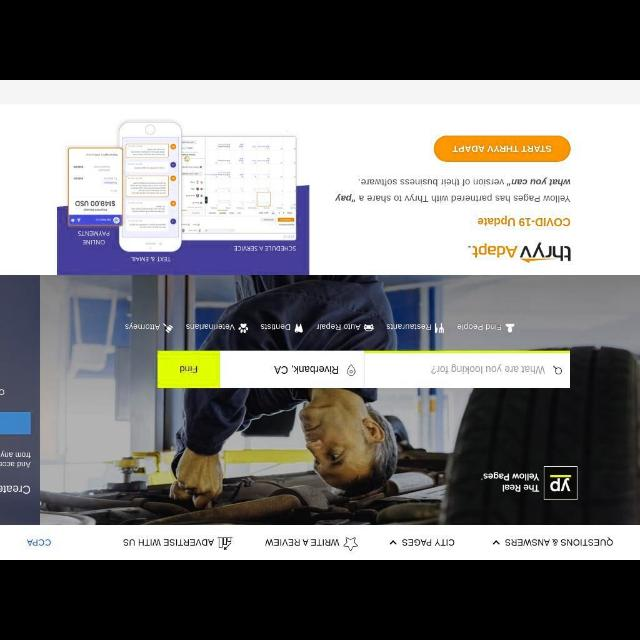icon: (344, 536, 358, 552), (218, 536, 232, 548), (237, 322, 250, 334), (162, 322, 174, 334), (552, 364, 562, 376), (346, 365, 356, 377), (435, 322, 445, 333), (364, 322, 374, 332), (294, 323, 304, 333), (506, 322, 514, 334), (389, 538, 398, 546), (491, 539, 501, 545)
image: (57, 121, 309, 275), (482, 466, 576, 500), (468, 241, 572, 265)
input: (365, 350, 569, 388)
spinner: (490, 536, 612, 548), (388, 537, 454, 547)
text: (335, 180, 571, 202), (430, 362, 546, 376), (475, 216, 571, 228), (506, 538, 614, 546), (272, 364, 338, 376), (264, 537, 338, 547), (122, 539, 214, 547), (452, 146, 552, 152), (1, 449, 32, 468), (402, 537, 456, 547), (185, 322, 235, 332), (316, 322, 360, 332), (457, 322, 501, 331), (1, 484, 33, 496), (123, 322, 159, 332), (386, 324, 430, 332), (260, 322, 290, 332), (26, 538, 52, 548), (180, 366, 200, 374)
textbutton: (434, 136, 570, 162), (157, 350, 219, 388)
toolbar: (1, 525, 639, 559)
